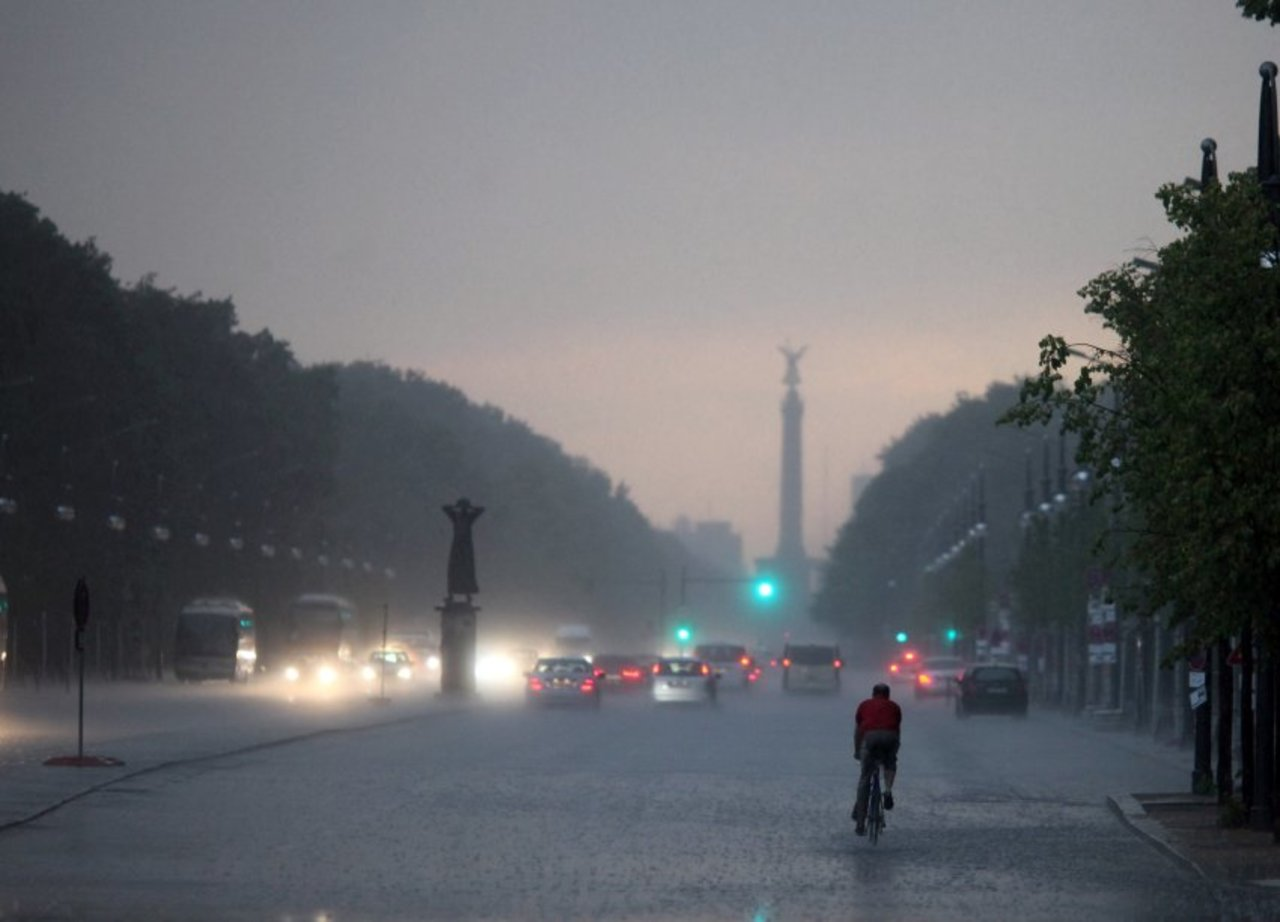bicycle: (855, 746, 893, 842)
bus: (172, 590, 254, 679), (282, 595, 352, 691), (783, 635, 843, 698), (695, 638, 748, 683), (548, 623, 595, 666)
car: (955, 662, 1026, 718), (525, 656, 600, 709), (651, 658, 717, 704), (275, 651, 337, 695), (592, 651, 643, 692), (361, 645, 411, 685), (917, 652, 959, 695), (405, 638, 439, 676)
person: (853, 681, 904, 805)
